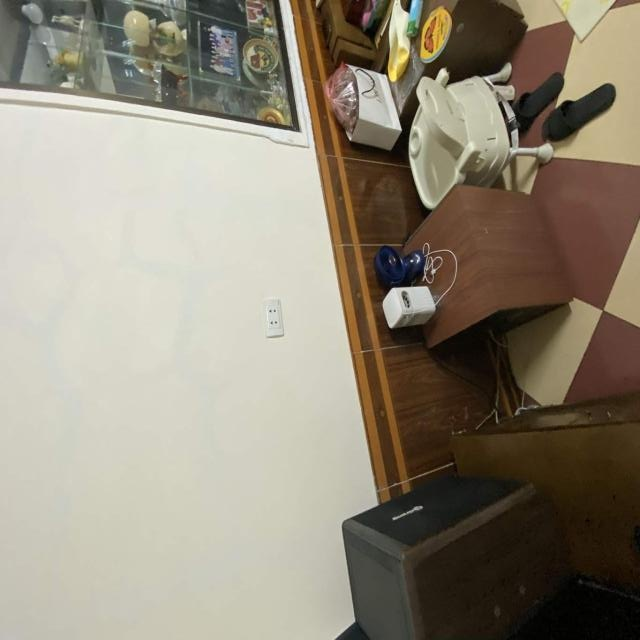outlet: (263, 299, 284, 338)
